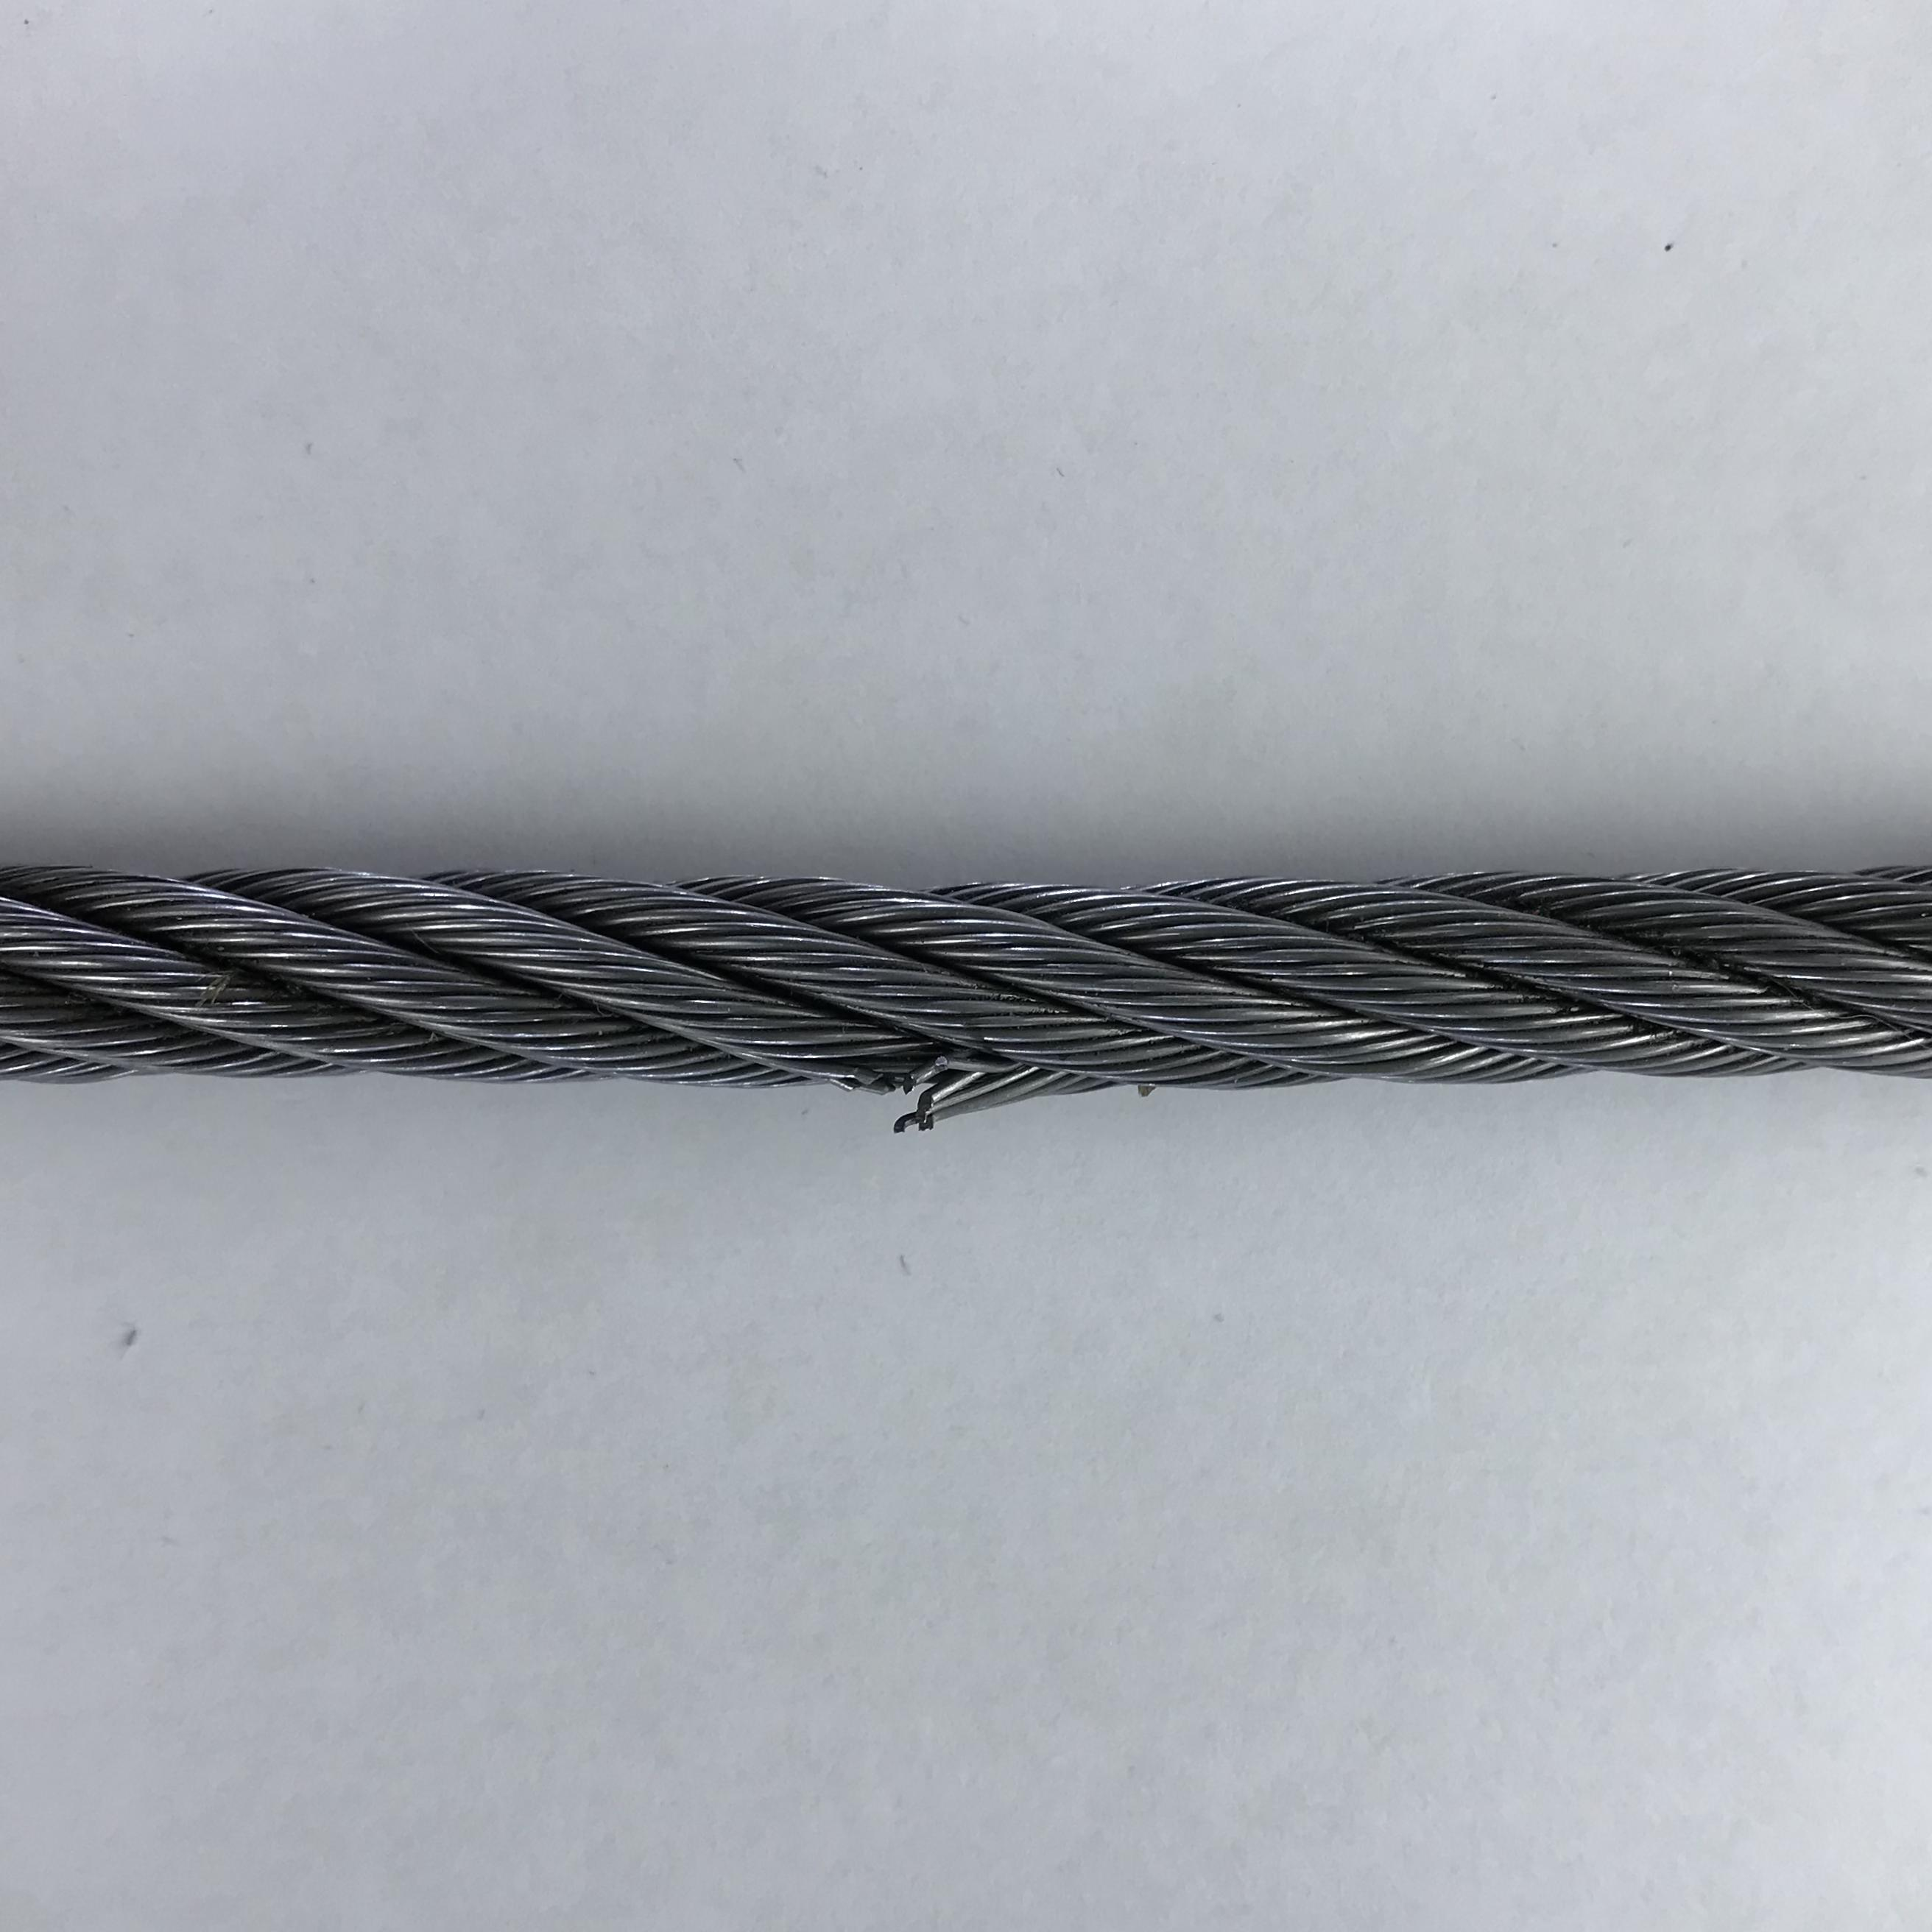break: (833, 1053, 970, 1136)
